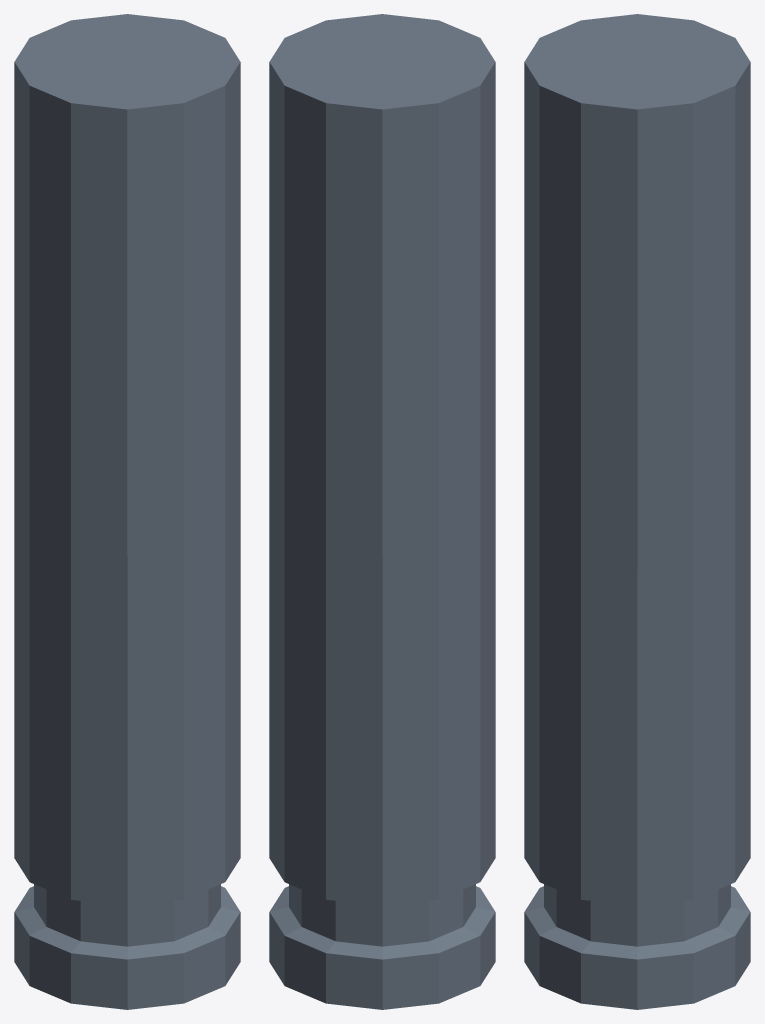
The picture shows the model from 3 angles, left to right: view 1: azimuth 30°, elevation 25°; view 2: azimuth 150°, elevation 25°; view 3: azimuth 270°, elevation 25°; orthographic projection.
Visible parts, largest first — view 1: Cylinder; view 2: Cylinder; view 3: Cylinder.
Part boxes in pixels (<box>): Cylinder: <box>14,14,240,1009</box>; Cylinder: <box>269,14,495,1009</box>; Cylinder: <box>524,14,750,1009</box>.
Bounding box in the file's own units: 7.88 × 34.64 × 7.88.
